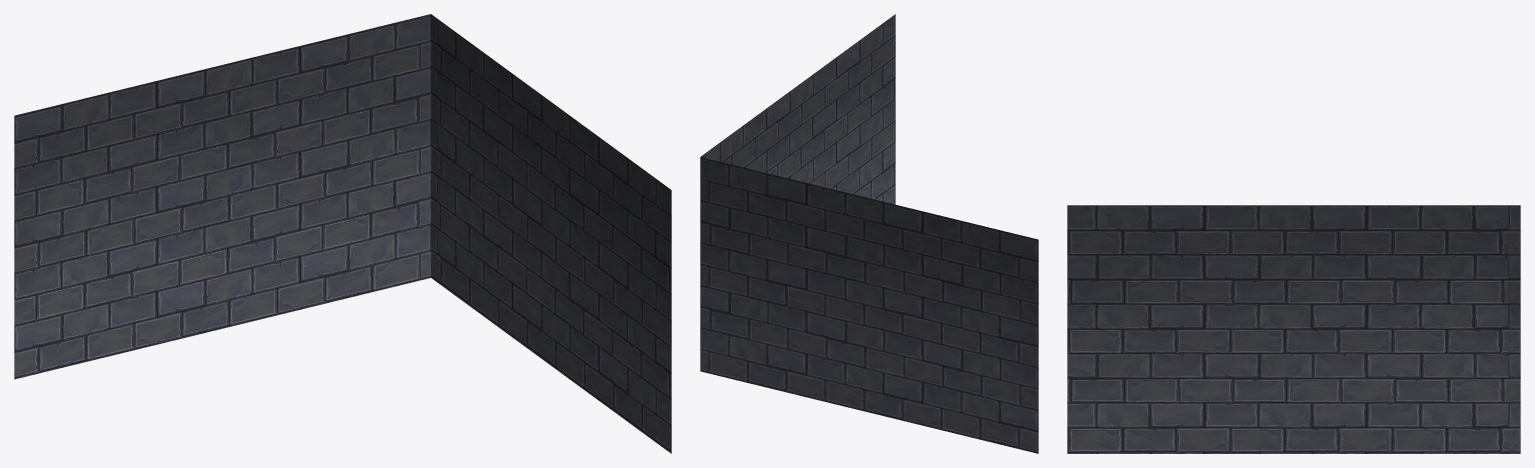
File: dungeon_wall_cornerL.FBX
3 views of the same model, side by side, from view 1: azimuth 30°, elevation 25°; view 2: azimuth 150°, elevation 25°; view 3: azimuth 270°, elevation 25° (orthographic). The views are drawn at different scales.
Parts seen in each view (by area): view 1: wall_cornerL; view 2: wall_cornerL; view 3: wall_cornerL.
Part boxes in pixels (x1,y1,x2,y2): wall_cornerL: [14, 14, 671, 453]; wall_cornerL: [700, 14, 1038, 453]; wall_cornerL: [1067, 205, 1520, 453].
Size of the model in its own units: 950 by 575 by 950.
Materials: 1 (1 with a texture image).
